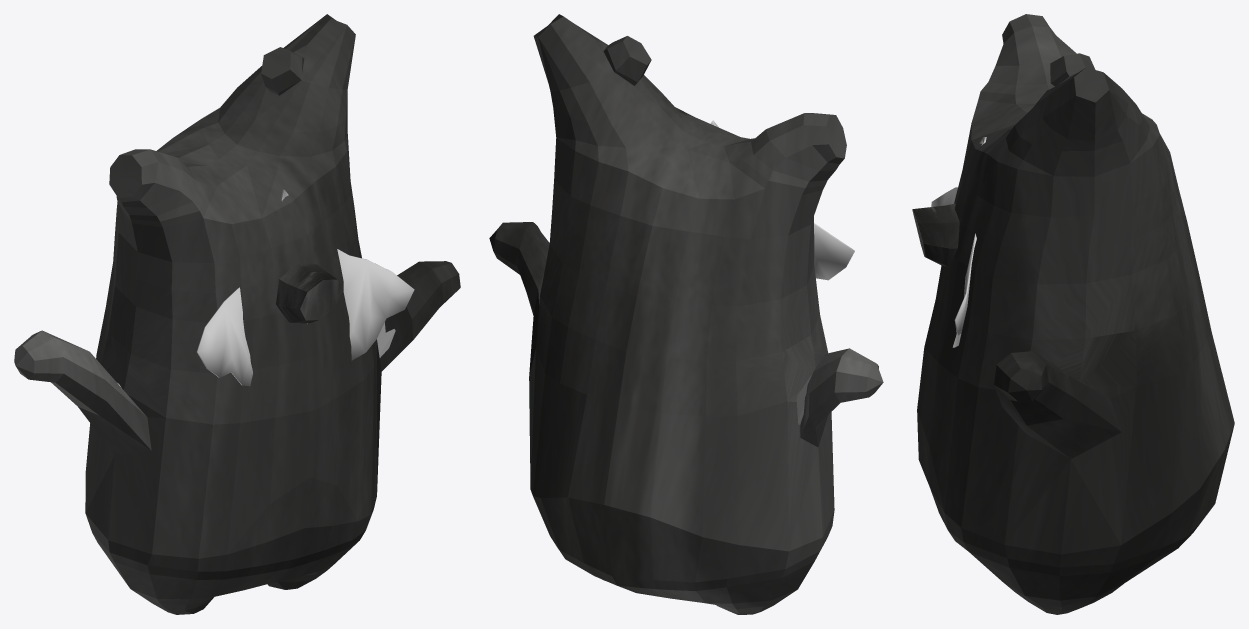
Rendered from frame_0019.obj.
3 views of the same model, side by side, from view 1: azimuth 30°, elevation 25°; view 2: azimuth 150°, elevation 25°; view 3: azimuth 270°, elevation 25° (orthographic). The views are drawn at different scales.
Visible parts, largest first — view 1: korok, leaf, nose; view 2: korok, leaf; view 3: korok, nose, leaf.
Part boxes in pixels (x1,y1,x2,y2): korok: (14, 14, 460, 614); leaf: (196, 189, 414, 386); nose: (276, 263, 341, 323); korok: (489, 14, 883, 614); leaf: (710, 120, 854, 280); korok: (917, 14, 1234, 614); nose: (912, 203, 959, 266); leaf: (931, 137, 986, 347).
Size of the model in its own units: 1.83 by 2.32 by 1.18.
